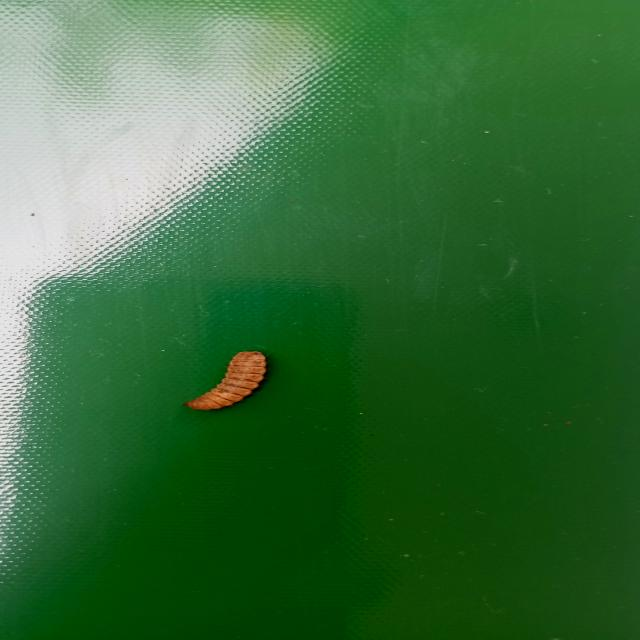Maggot: (186, 352, 271, 414)
